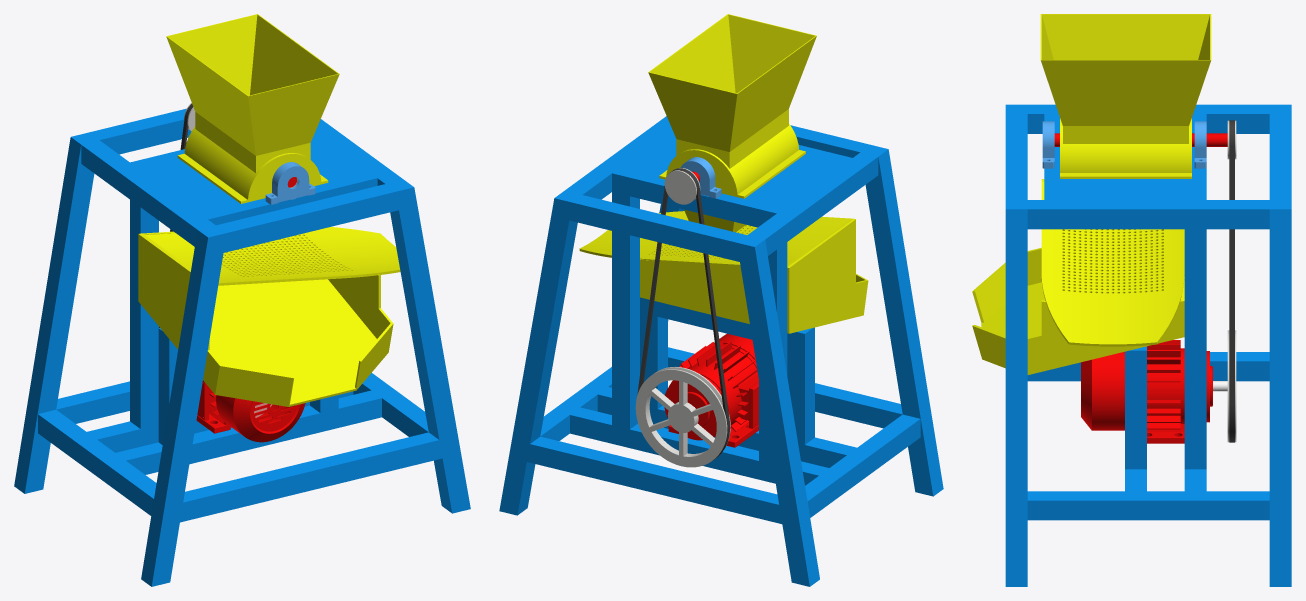
The model's file is Pencacah Kacang.glb.
3 views of the same model, side by side, from view 1: azimuth 30°, elevation 25°; view 2: azimuth 150°, elevation 25°; view 3: azimuth 270°, elevation 25° (orthographic). The views are drawn at different scales.
Parts seen in each view (by area): view 1: Solid1 (×6), Solid4; view 2: Solid1 (×9); view 3: Solid1 (×10), Solid4.
Boxes of the visible parts, <box> form: Solid1 (×6): <box>14,14,470,586</box>; Solid4: <box>216,395,305,442</box>; Solid1 (×9): <box>499,14,943,586</box>; Solid1 (×10): <box>972,14,1291,586</box>; Solid4: <box>1081,351,1124,430</box>.
Bounding box in the file's own units: 0.6969 × 0.94 × 0.581.
